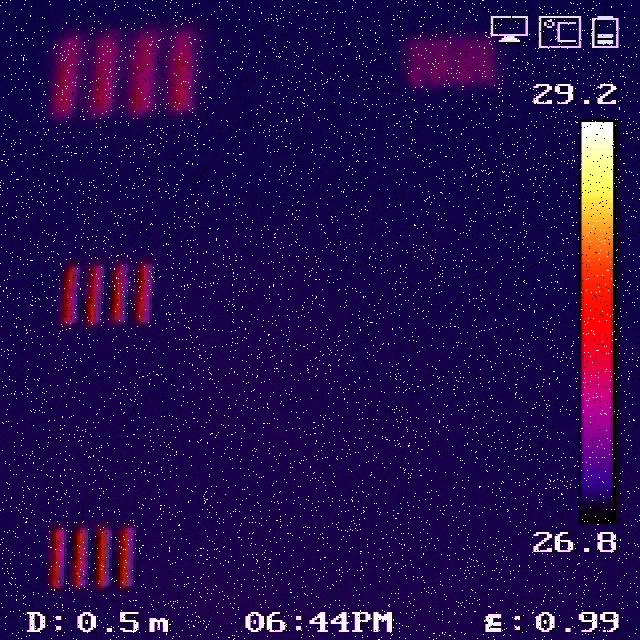Distinguishable 4-bar target: (41, 20, 211, 124), (42, 519, 142, 593), (56, 253, 160, 324)
threshold 4-bar target: (396, 30, 501, 91)
